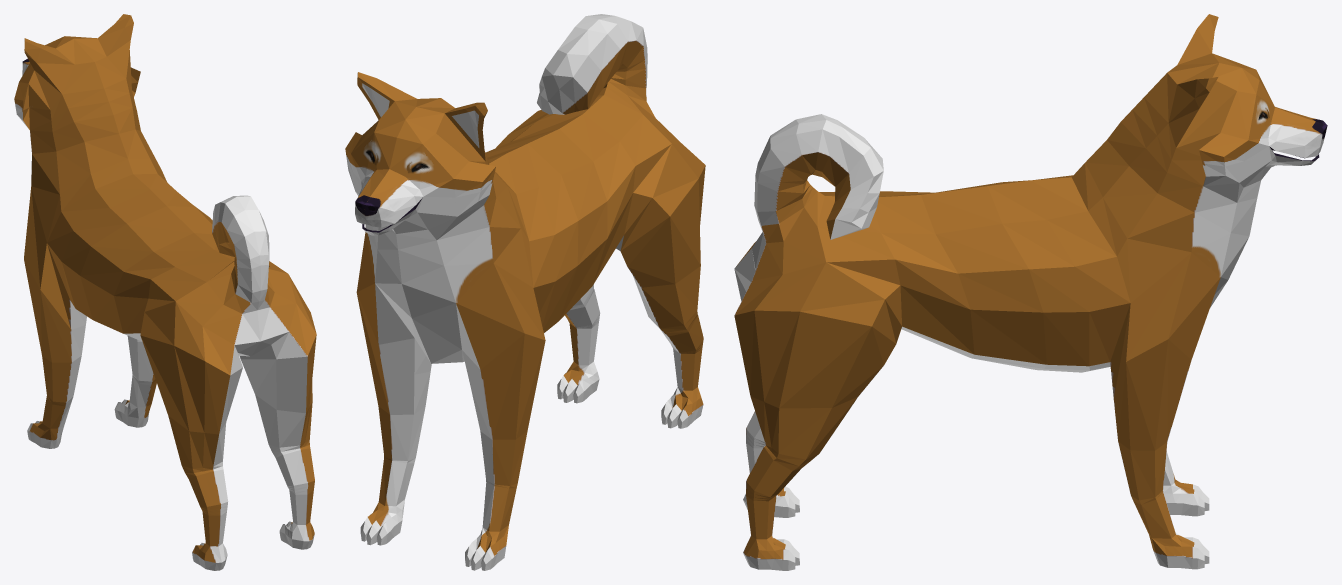
The model's file is dog.gltf.
3 renders of one model, left to right at view 1: azimuth 30°, elevation 25°; view 2: azimuth 150°, elevation 25°; view 3: azimuth 270°, elevation 25°, orthographic. The views are drawn at different scales.
Visible parts, largest first — view 1: mesh_0; view 2: mesh_0; view 3: mesh_0.
Boxes of the visible parts, <box> form: mesh_0: <box>14,14,316,570</box>; mesh_0: <box>345,14,705,570</box>; mesh_0: <box>734,14,1327,570</box>.
Size of the model in its own units: 3.38 by 8.74 by 9.55.
Materials: 1 (1 with a texture image).
